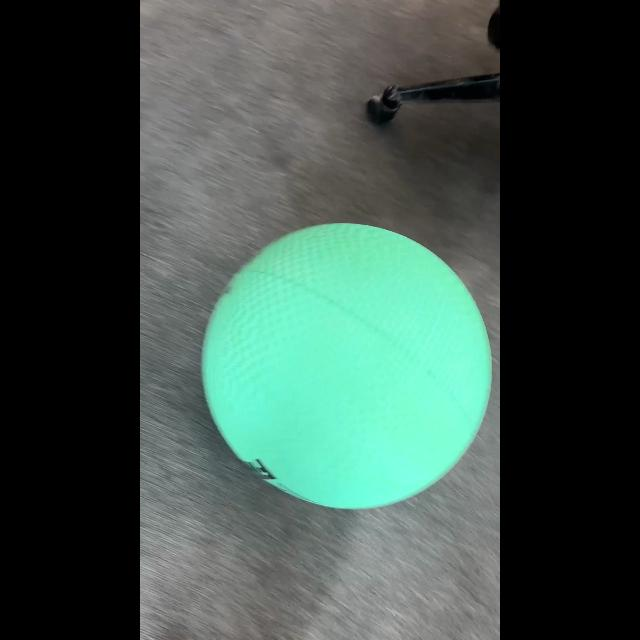ALGAE: (200, 222, 492, 510)
